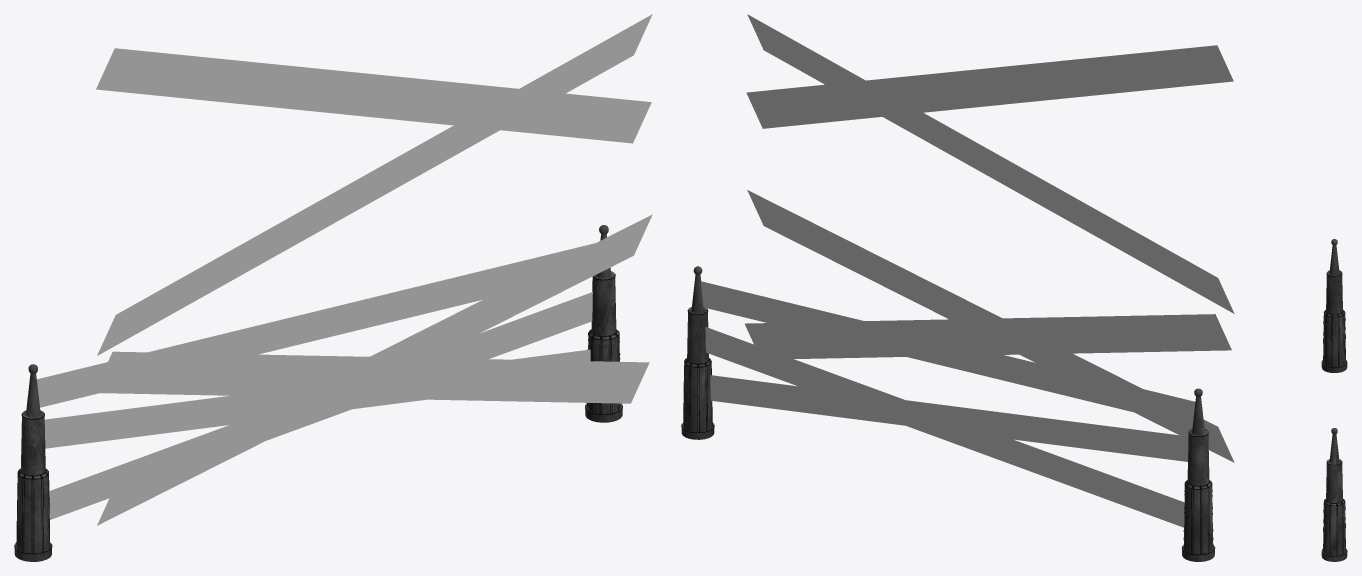
Rendered from No_Entry_Barrier.fbx.
The picture shows the model from 3 angles, left to right: view 1: azimuth 30°, elevation 25°; view 2: azimuth 150°, elevation 25°; view 3: azimuth 270°, elevation 25°; orthographic projection. The views are drawn at different scales.
Visible parts, largest first — view 1: pPlane1, pPlane3, pPlane4, pPlane2, One, Pole_St (×2), Two, Three, Pole_Border; view 2: pPlane1, pPlane3, One, Three, pPlane2, Two, pPlane4, Pole_St (×2), Pole_Border (×2); view 3: Pole_St (×2), Pole_Border (×2).
Part boxes in pixels (x1,y1,x2,y2): pPlane1: [96, 48, 651, 143]; pPlane3: [94, 351, 649, 403]; pPlane4: [97, 214, 652, 525]; pPlane2: [97, 14, 652, 355]; One: [37, 243, 594, 407]; Pole_St (×2): [14, 225, 622, 561]; Two: [44, 349, 590, 448]; Three: [49, 292, 592, 519]; Pole_Border: [14, 410, 52, 554]; pPlane1: [746, 45, 1233, 128]; pPlane3: [745, 314, 1231, 358]; One: [700, 281, 1195, 426]; Three: [705, 327, 1184, 527]; pPlane2: [747, 14, 1234, 313]; Two: [710, 375, 1188, 461]; pPlane4: [747, 190, 1234, 462]; Pole_St (×2): [681, 266, 1214, 561]; Pole_Border (×2): [681, 307, 1215, 555]; Pole_St (×2): [1321, 239, 1347, 561]; Pole_Border (×2): [1321, 270, 1347, 556].
Size of the model in its own units: 7.33 by 6.22 by 1.3.
